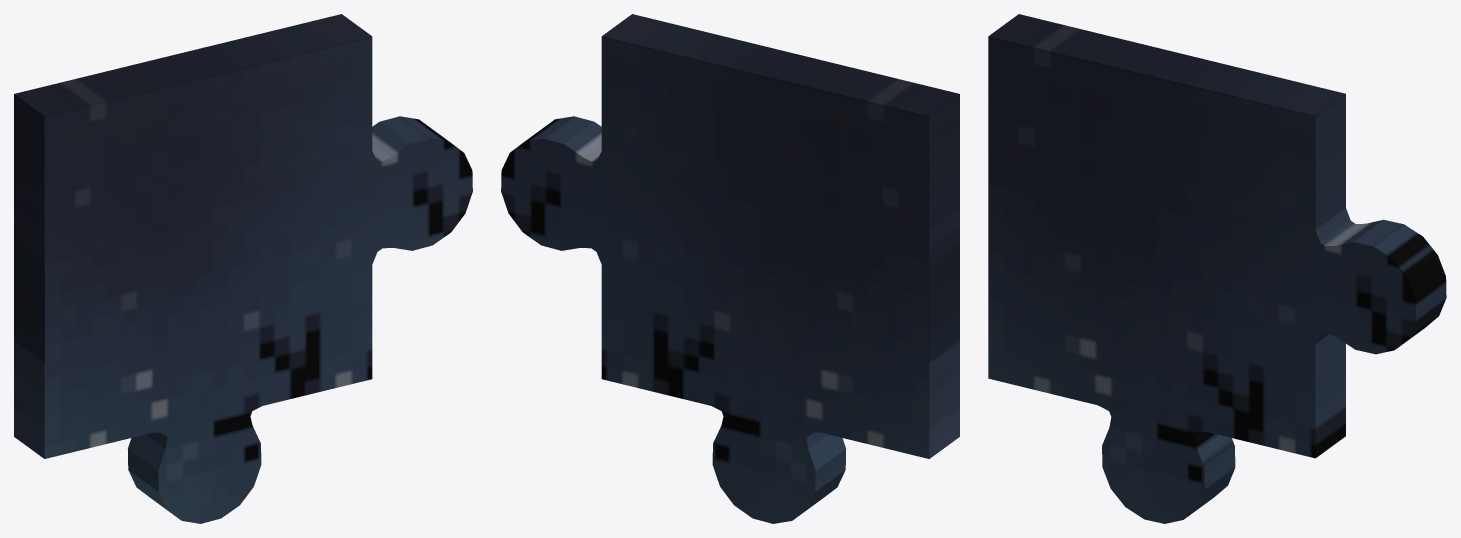
The model's file is Pieces_10_001.fbx.
3 renders of one model, left to right at view 1: azimuth 30°, elevation 25°; view 2: azimuth 150°, elevation 25°; view 3: azimuth 330°, elevation 25°, orthographic.
Visible parts, largest first — view 1: Pieces 10.001; view 2: Pieces 10.001; view 3: Pieces 10.001.
Boxes of the visible parts, x1,y1,x2,y2 form: Pieces 10.001: (14, 14, 472, 523); Pieces 10.001: (501, 14, 959, 523); Pieces 10.001: (988, 14, 1446, 523).
Size of the model in its own units: 105 by 105 by 12.98.
